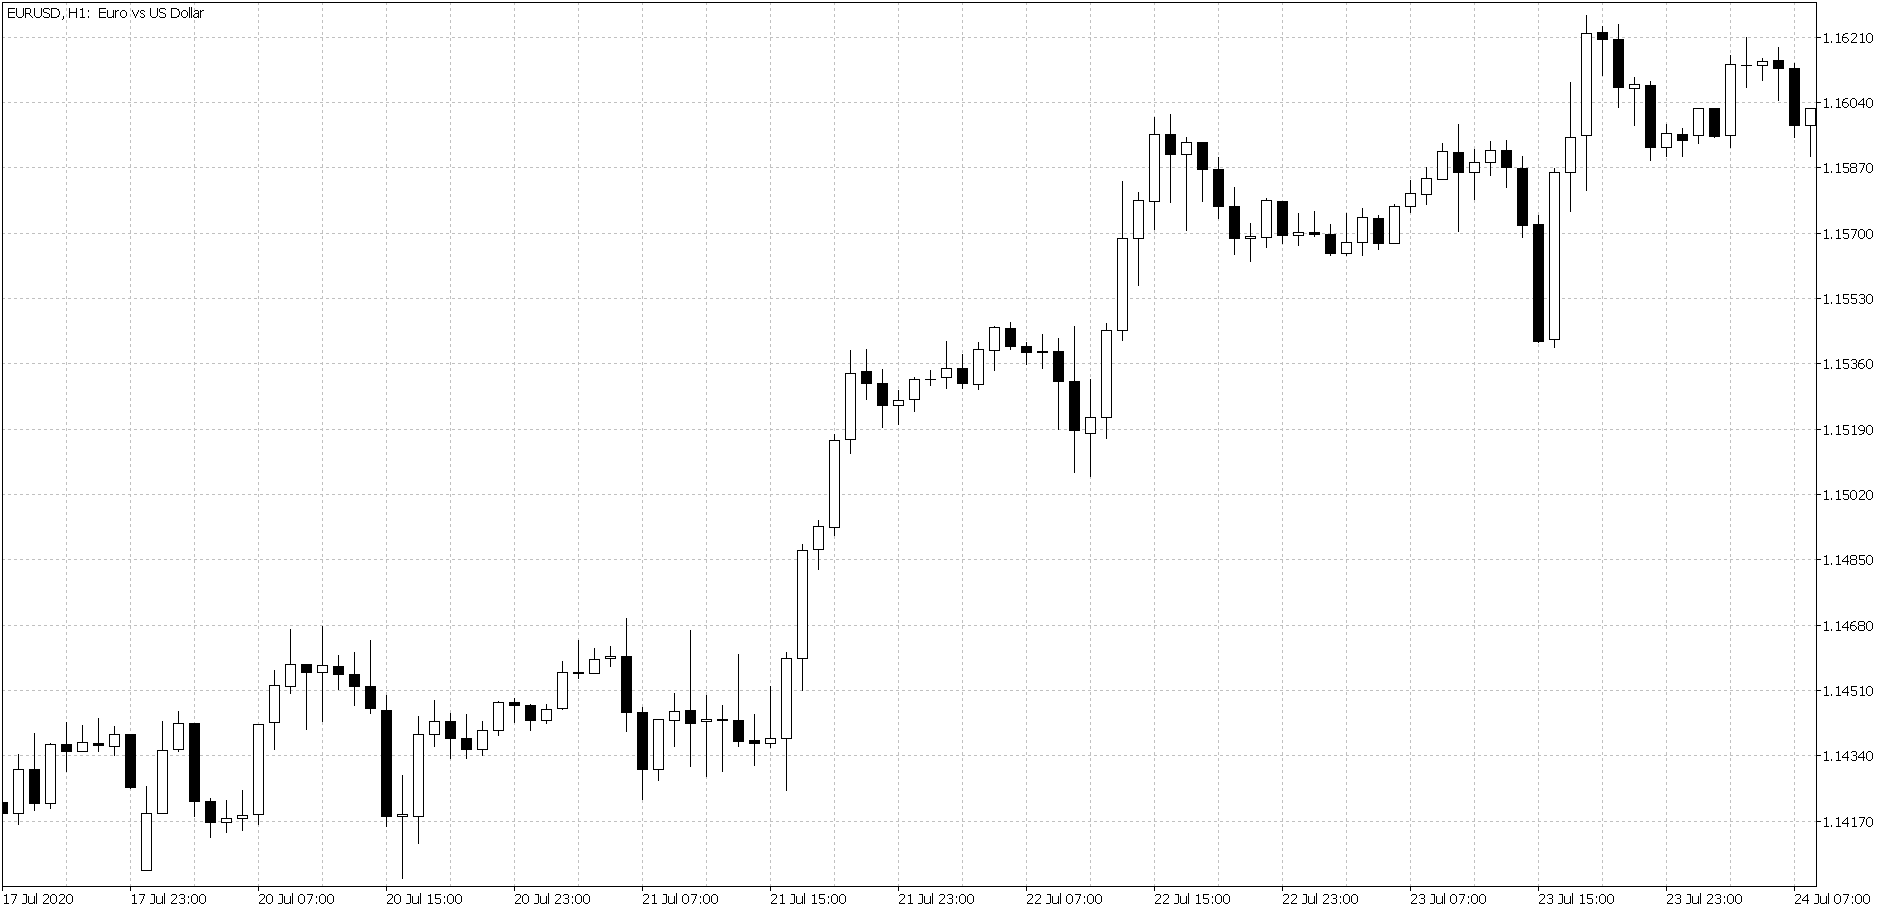bullishEngulfing: (1532, 164, 1563, 368)
hangingMan: (300, 661, 315, 735)
morningDojiStar: (380, 680, 428, 870)
